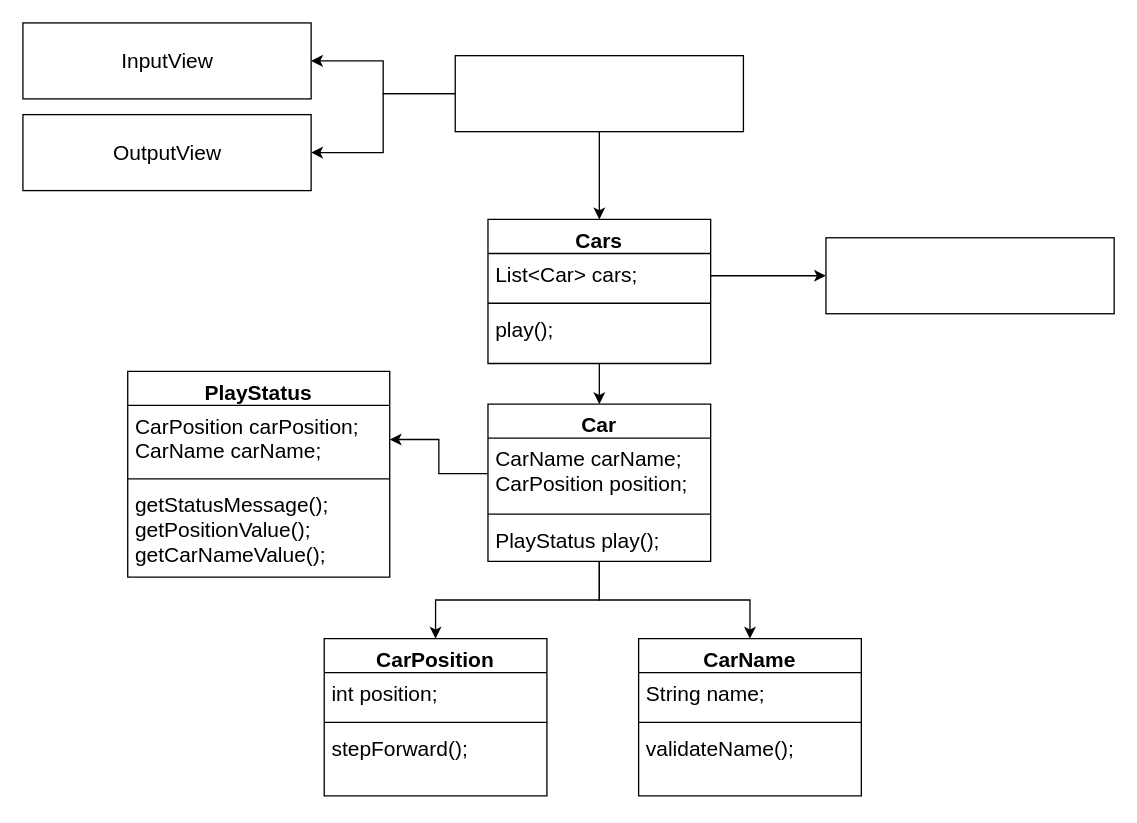
This 1137x823 diagram has some shape labels left out. Each missing label, with the centre of its shape:
"GameManager" belongs at point 598,93.
"RandomNumberGenerator" belongs at point 969,275.
